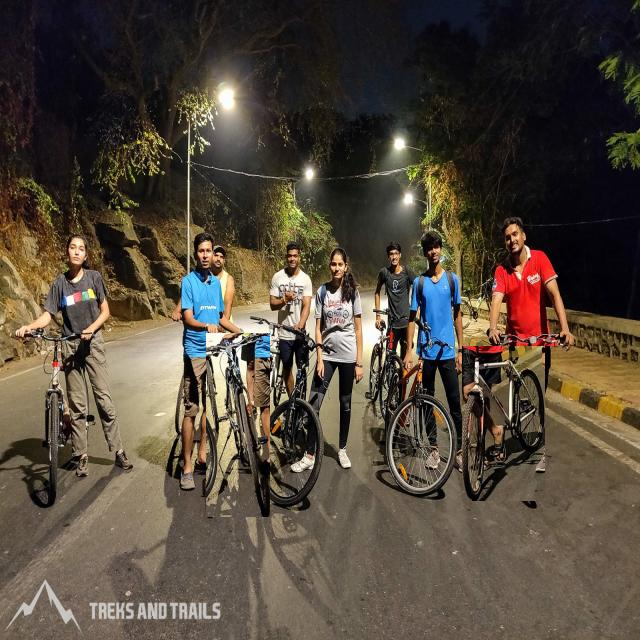bicycle: (462, 346, 545, 501), (385, 320, 456, 495), (259, 325, 324, 507), (206, 333, 270, 517), (25, 328, 81, 504), (500, 335, 560, 346)
